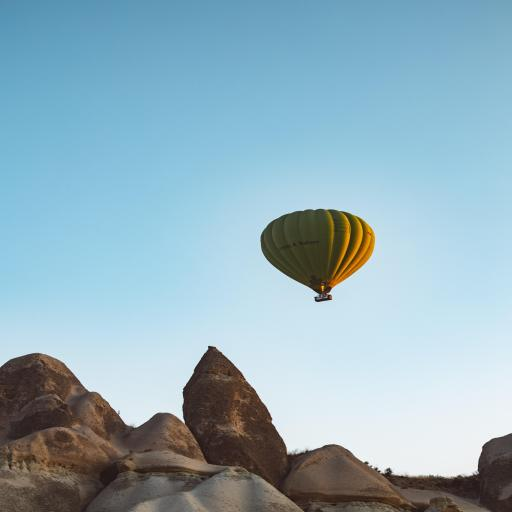hot air ballon: (260, 209, 375, 302)
